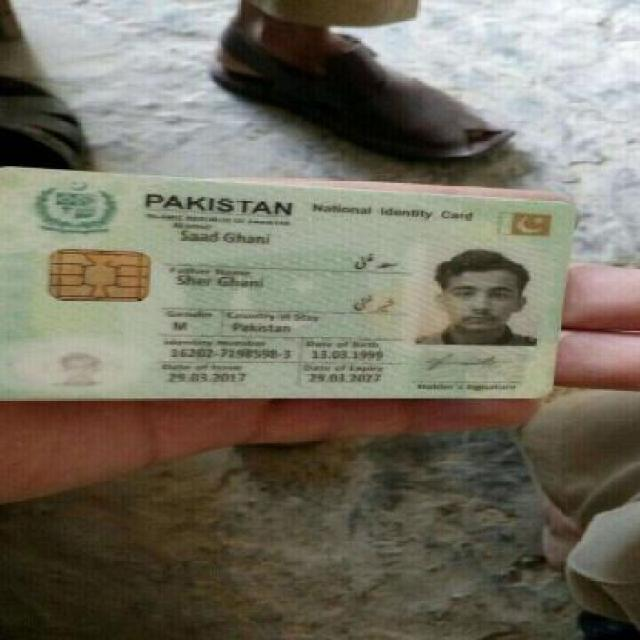Front: (4, 151, 578, 409)
